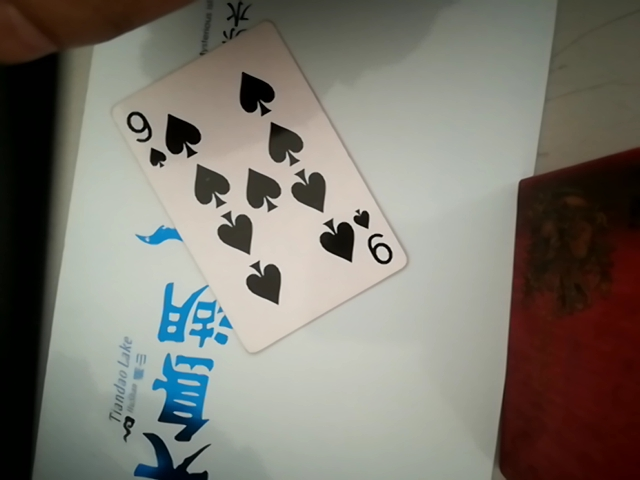ht 9: (109, 11, 409, 370)
